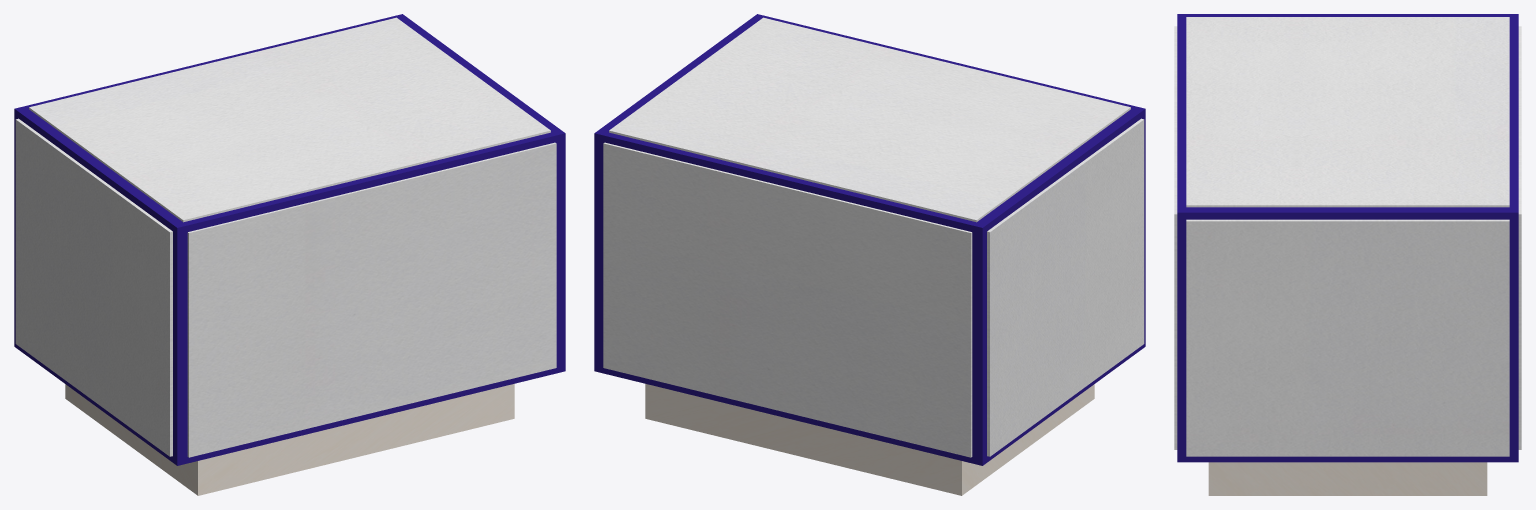
The model's file is NightStand.fbx.
3 views of the same model, side by side, from view 1: azimuth 30°, elevation 25°; view 2: azimuth 150°, elevation 25°; view 3: azimuth 270°, elevation 25° (orthographic). The views are drawn at different scales.
Visible parts, largest first — view 1: Box001, Luz; view 2: Box001, Luz; view 3: Box001, Luz.
Boxes of the visible parts, box(x1,y1,x2,y2) form: Box001: box(15, 17, 556, 495); Luz: box(14, 14, 565, 465); Box001: box(603, 17, 1144, 495); Luz: box(594, 14, 1145, 465); Box001: box(1174, 17, 1521, 495); Luz: box(1177, 14, 1518, 462).
Bounding box in the file's own units: 26.41 × 19.2 × 18.55.
2 materials, 1 textured.
